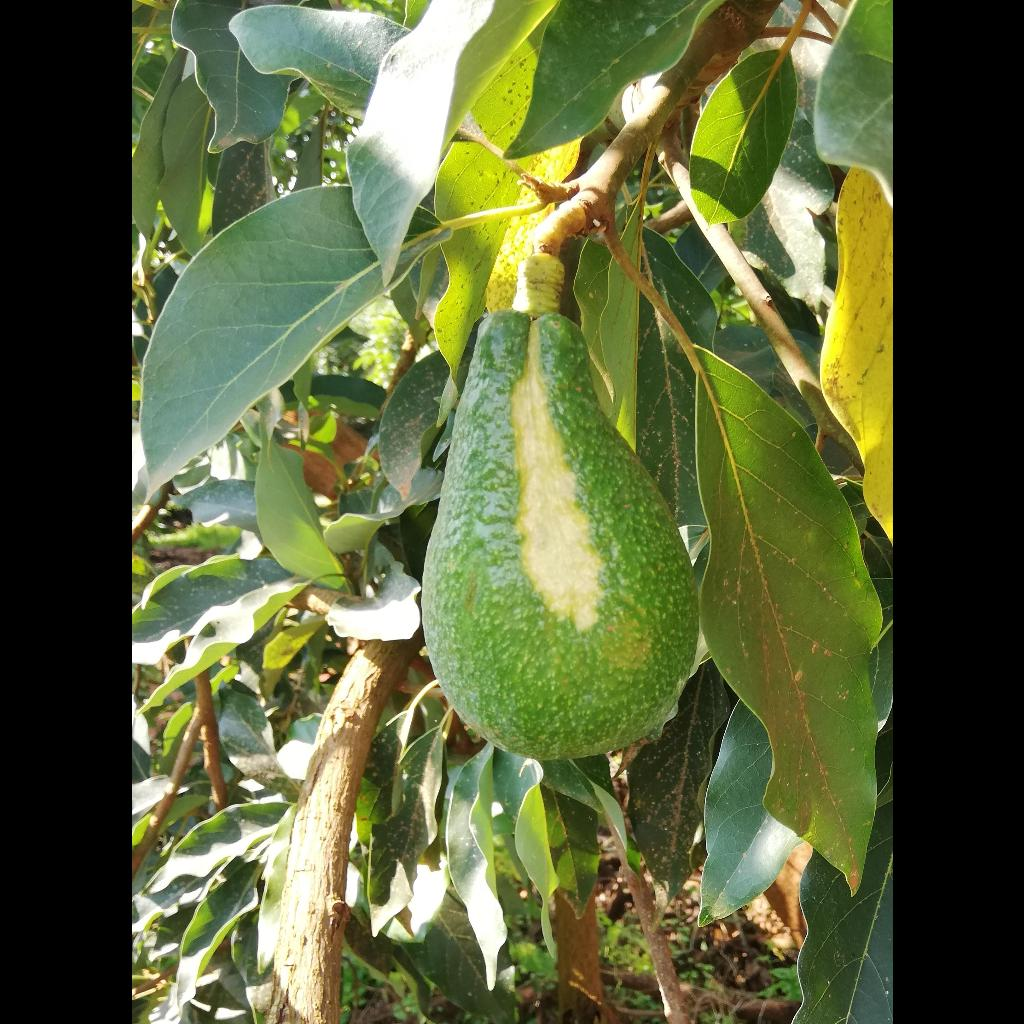sunblotch: (390, 322, 716, 780)
